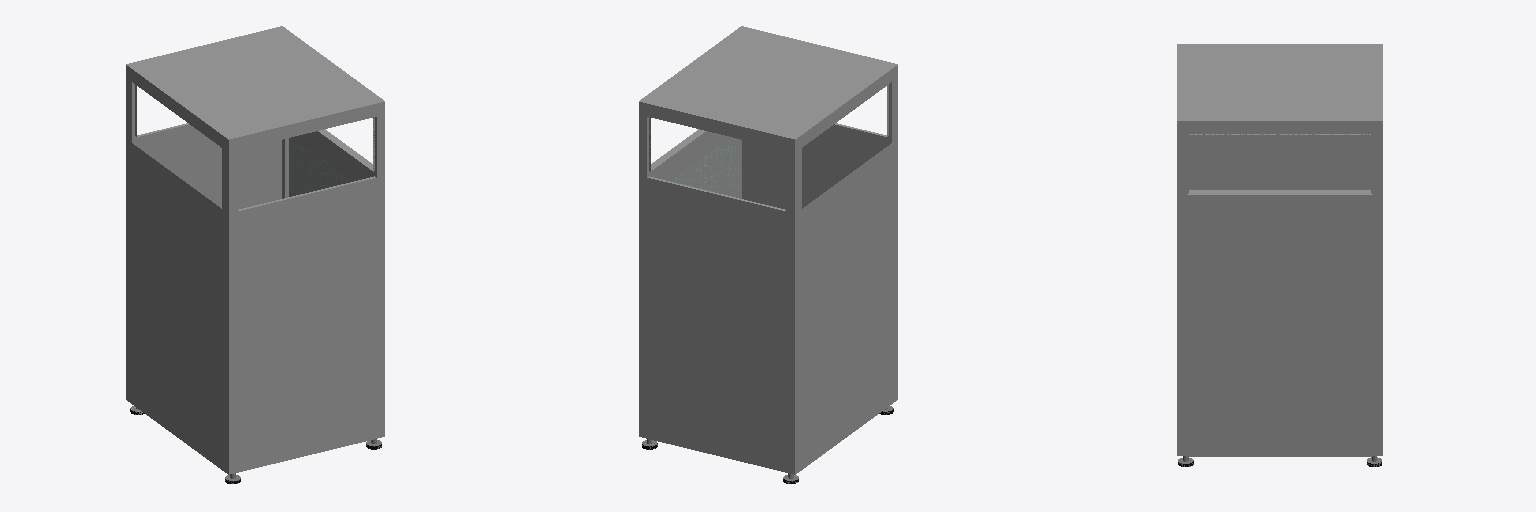
3 views of the same model, side by side, from view 1: azimuth 30°, elevation 25°; view 2: azimuth 150°, elevation 25°; view 3: azimuth 270°, elevation 25° (orthographic).
Parts seen in each view (by area): view 1: mesh11_mesh11-geometry; view 2: mesh11_mesh11-geometry; view 3: mesh11_mesh11-geometry, mesh12_mesh12-geometry.
Part boxes in pixels (x1,y1,x2,y2): mesh11_mesh11-geometry: (126,26,384,474); mesh11_mesh11-geometry: (639,26,897,474); mesh11_mesh11-geometry: (1177,44,1382,456); mesh12_mesh12-geometry: (1189,134,1370,193).
Bounding box in the file's own units: 0.3869 × 0.8117 × 0.4374.
9 materials, 2 textured.